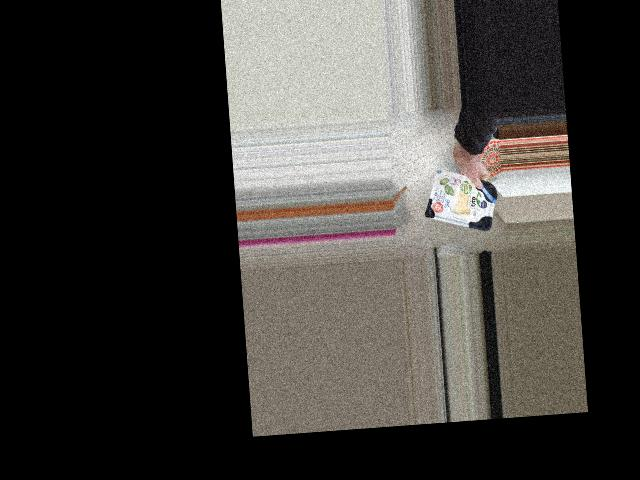cheese: (421, 166, 500, 236)
